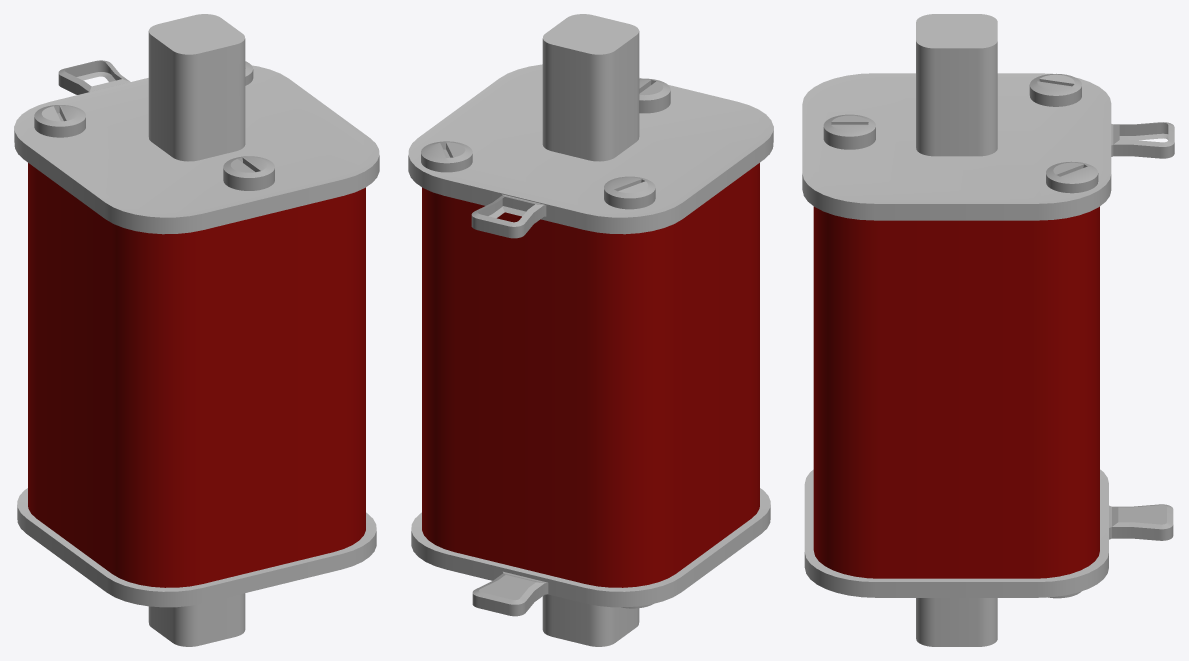
Rendered from RedFuse.fbx.
The picture shows the model from 3 angles, left to right: view 1: azimuth 30°, elevation 25°; view 2: azimuth 150°, elevation 25°; view 3: azimuth 270°, elevation 25°; orthographic projection.
Parts seen in each view (by area): view 1: Fuse; view 2: Fuse; view 3: Fuse.
Boxes of the visible parts, x1=… form: Fuse: x1=14, y1=14, x2=379, y2=646; Fuse: x1=408, y1=14, x2=773, y2=646; Fuse: x1=802, y1=14, x2=1174, y2=646.
Size of the model in its own units: 97.54 by 208 by 117.
